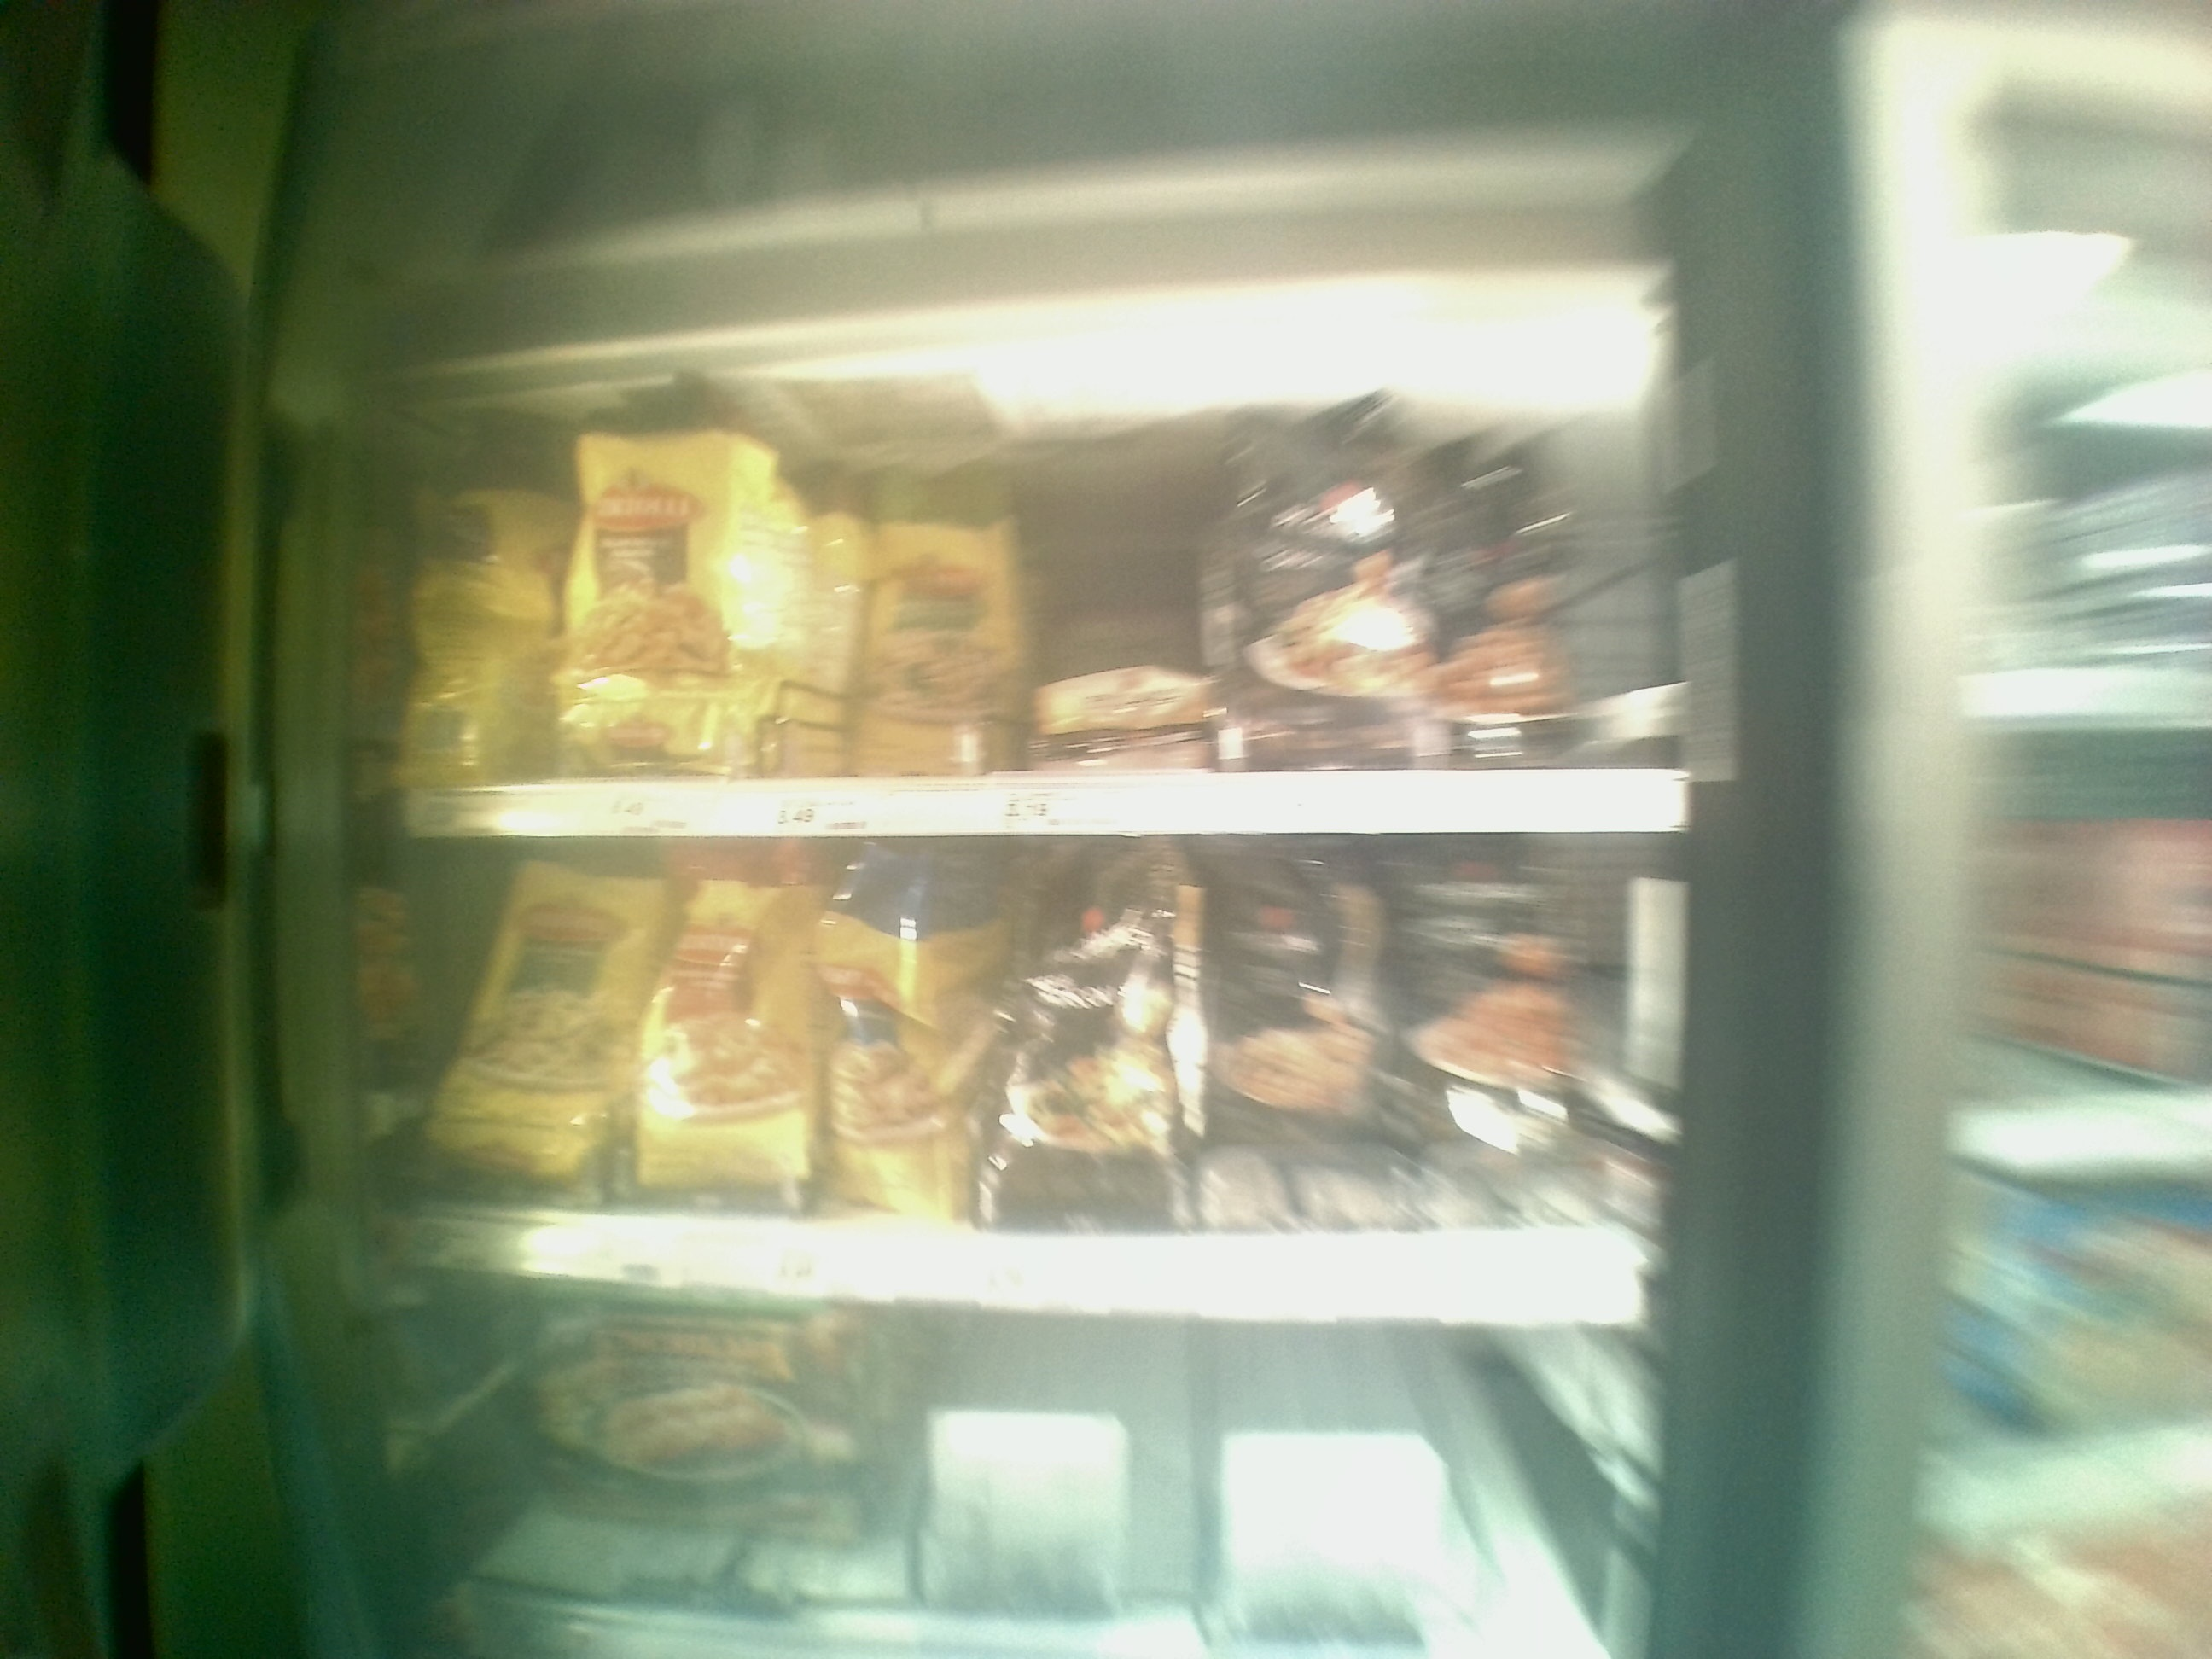shelf: (369, 350, 1683, 838), (380, 840, 1644, 1321)
